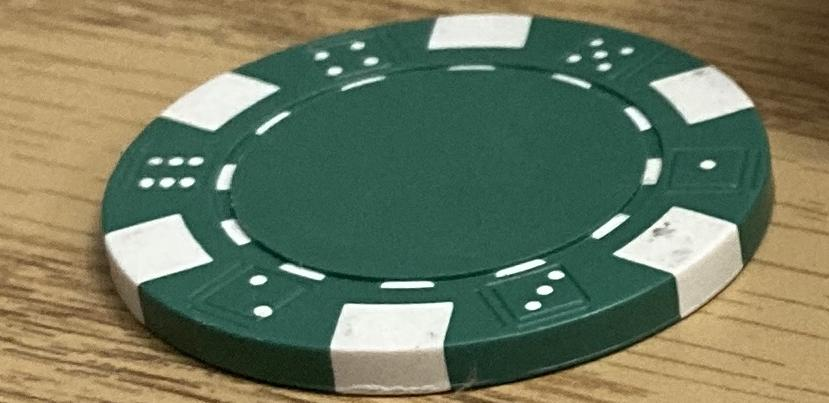Chip: (1, 2, 829, 403)
